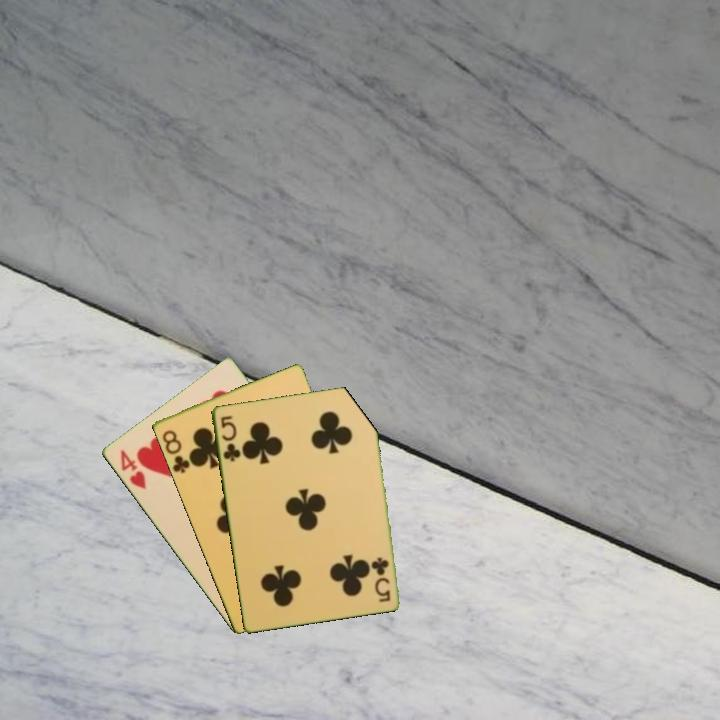4h: (116, 446, 149, 492)
5c: (217, 412, 243, 464), (370, 553, 393, 605)
8c: (158, 426, 196, 476)
